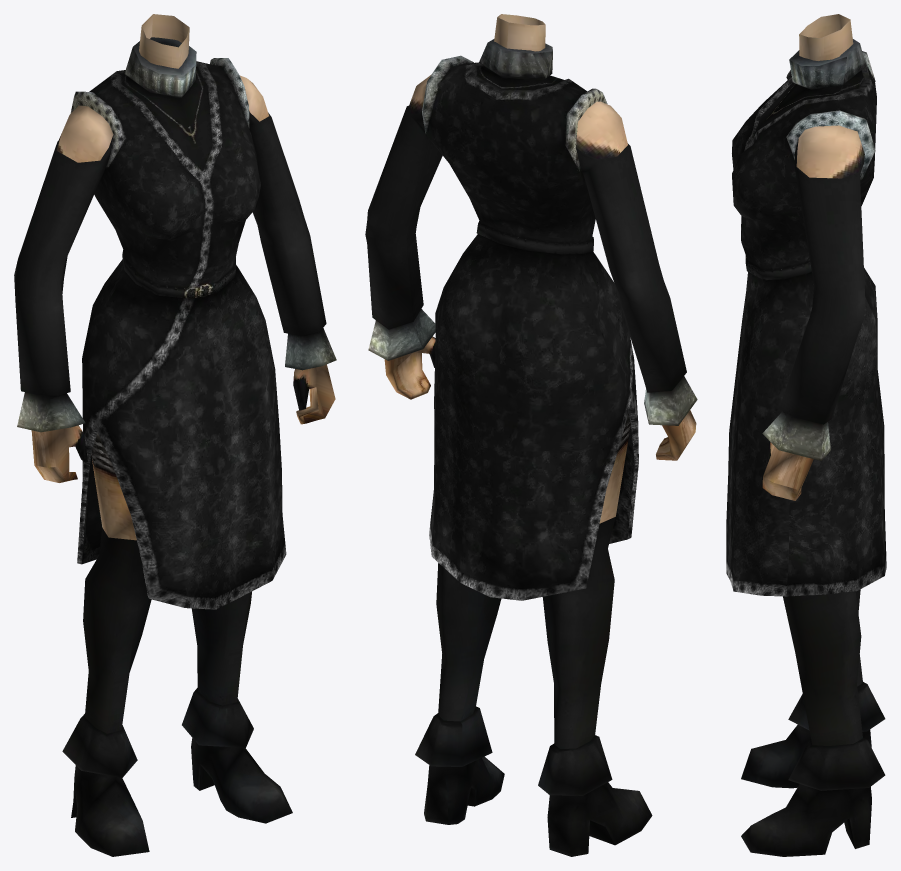
Rendered from KM_DRESS_05.glb.
3 renders of one model, left to right at view 1: azimuth 30°, elevation 25°; view 2: azimuth 150°, elevation 25°; view 3: azimuth 270°, elevation 25°, orthographic. The views are drawn at different scales.
Parts seen in each view (by area): view 1: KM_DRESS_05; view 2: KM_DRESS_05; view 3: KM_DRESS_05.
Boxes of the visible parts, x1,y1,x2,y2 form: KM_DRESS_05: (14,14,336,856); KM_DRESS_05: (365,14,697,856); KM_DRESS_05: (726,14,886,856).
Size of the model in its own units: 0.6694 by 1.67 by 0.307.
Materials: 2 (2 with a texture image).
